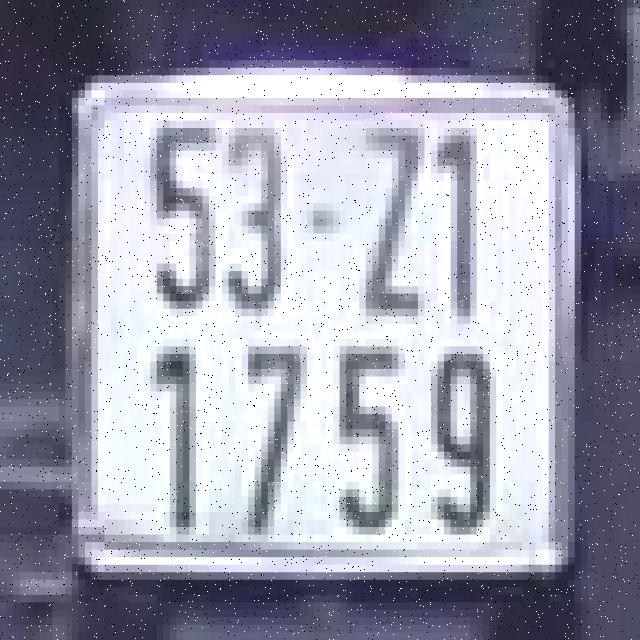1: (431, 113, 503, 331), (140, 339, 206, 542)
3: (225, 120, 284, 324)
5: (140, 116, 219, 312), (330, 338, 408, 534)
7: (228, 335, 314, 553)
9: (418, 342, 496, 538)
Z: (362, 124, 422, 328)
